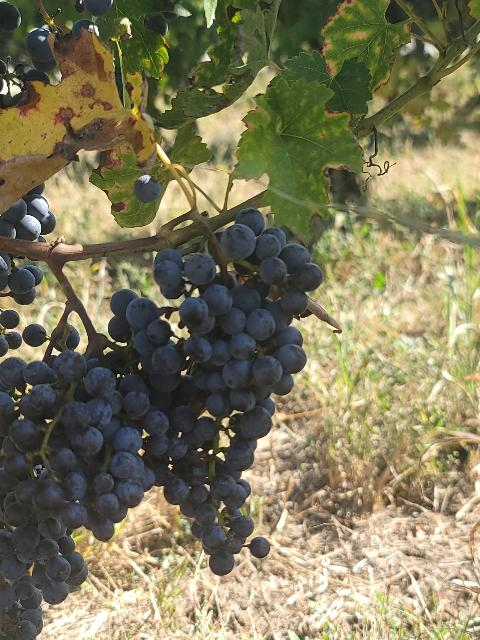grapes: (109, 208, 324, 574), (0, 350, 151, 640)
